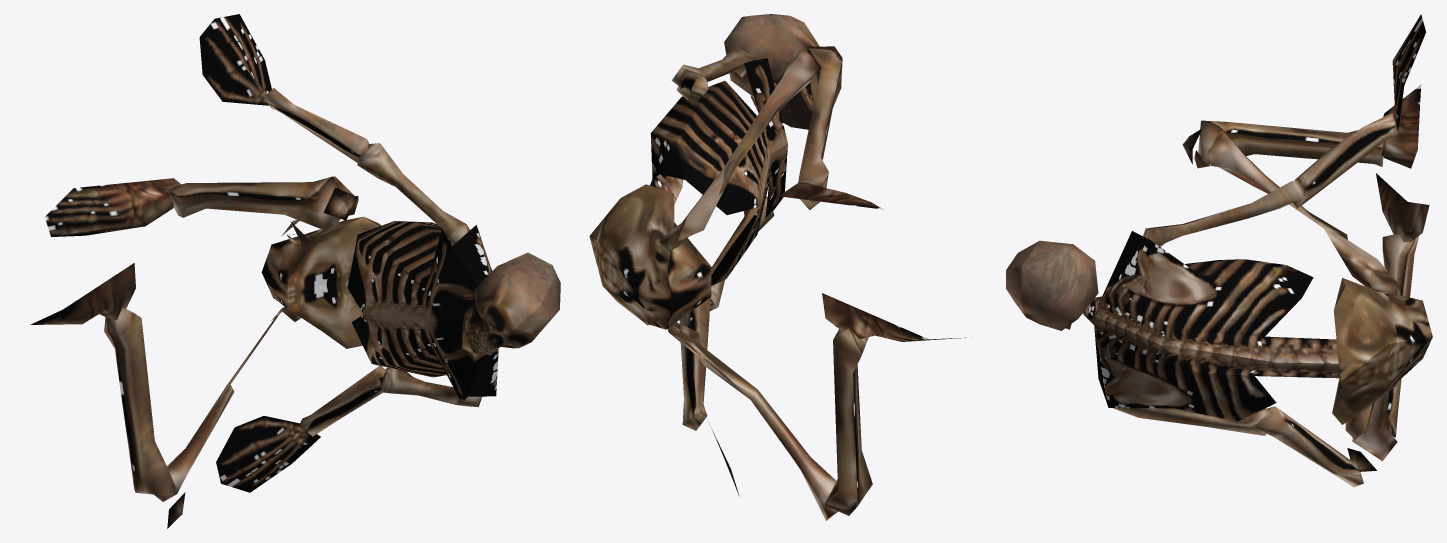
The model's file is skel.glb.
3 renders of one model, left to right at view 1: azimuth 30°, elevation 25°; view 2: azimuth 150°, elevation 25°; view 3: azimuth 270°, elevation 25°, orthographic. The views are drawn at different scales.
Parts seen in each view (by area): view 1: Group; view 2: Group; view 3: Group.
Boxes of the visible parts, x1,y1,x2,y2 form: Group: (30,14,560,528); Group: (589,14,971,520); Group: (1006,14,1432,487).
Size of the model in its own units: 0.3616 by 0.4208 by 0.3238.
Materials: 1 (1 with a texture image).
